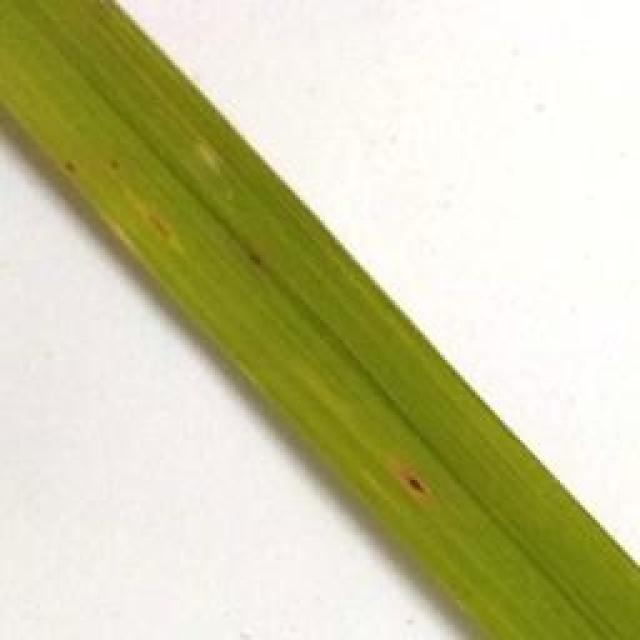Brown_Spot: (130, 213, 190, 256), (394, 467, 438, 508), (239, 235, 264, 271), (99, 147, 122, 172), (60, 149, 76, 172)
